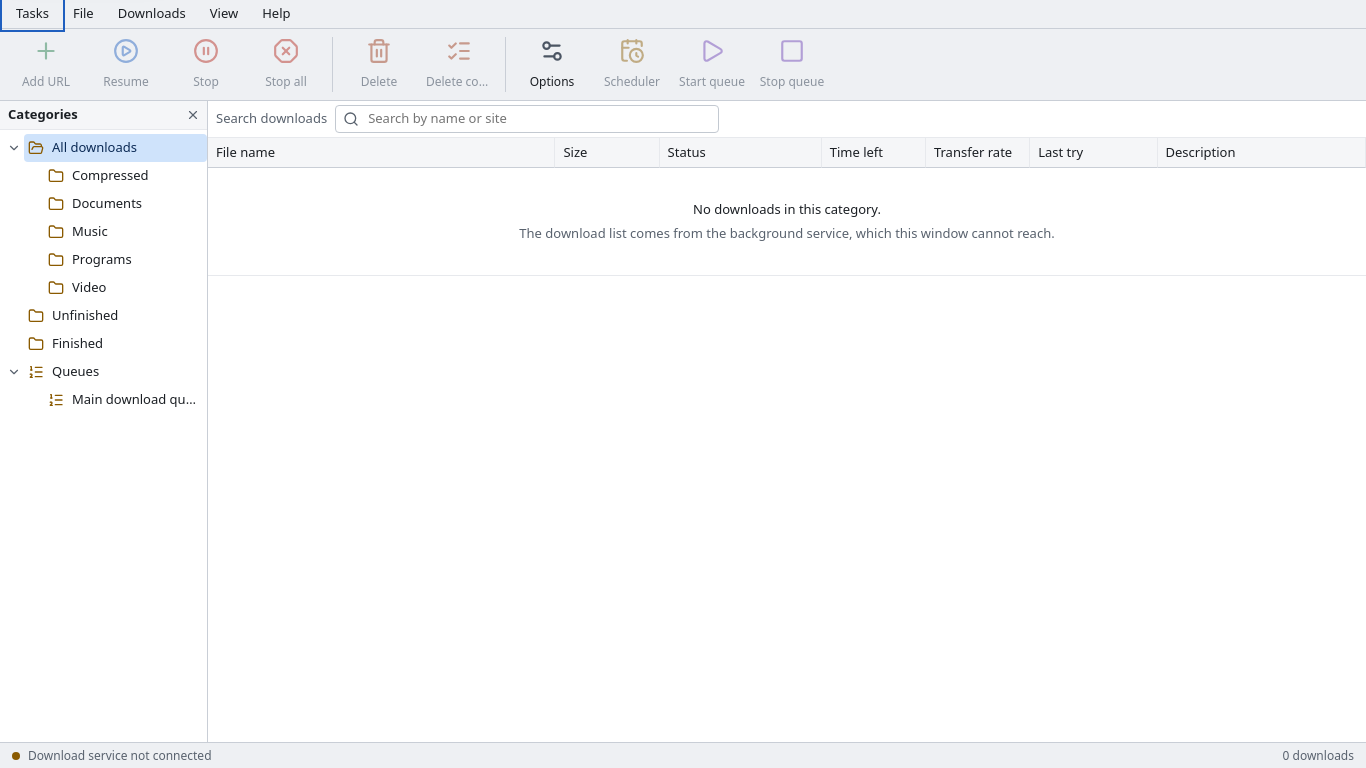
Scenario: classic download-manager window › operates the menu bar from the keyboard and changes theme
Press Arrowright Arrowright Arrowright
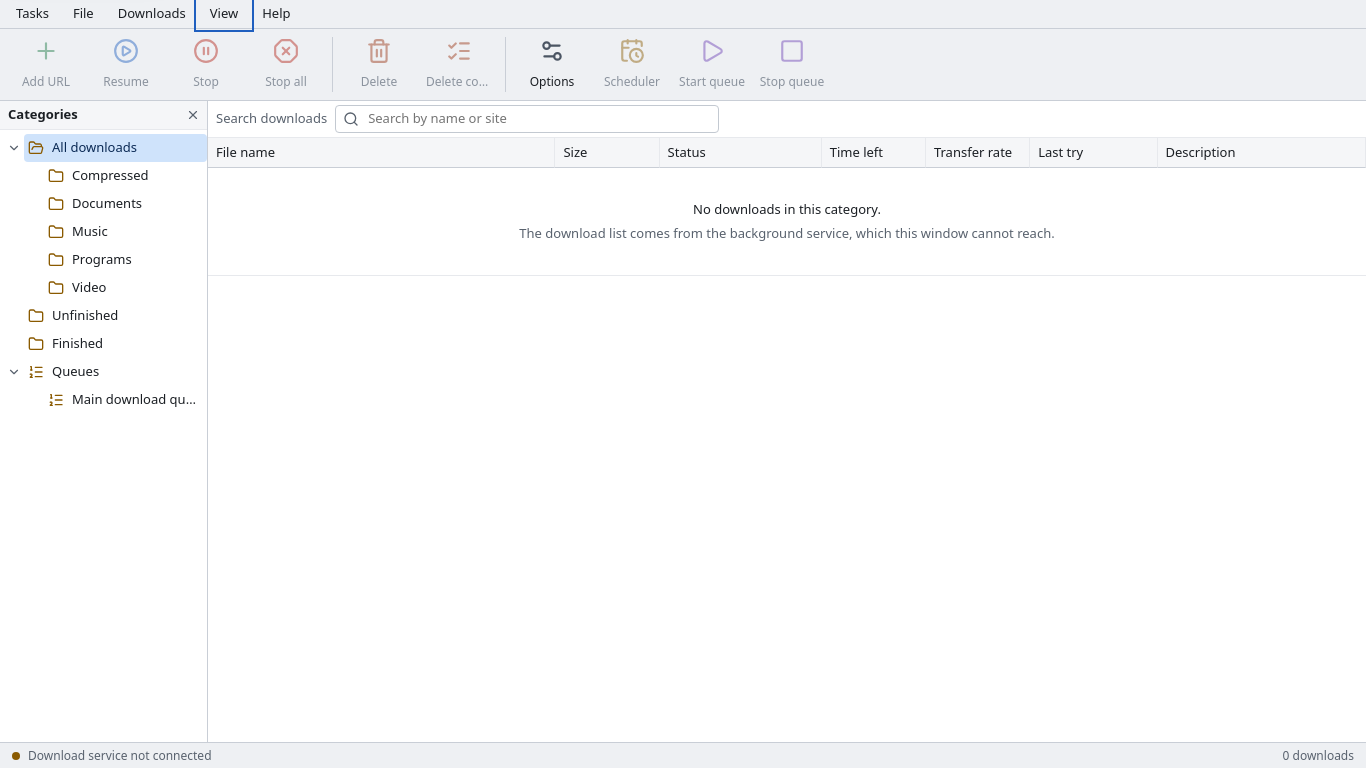
Press Arrowdown
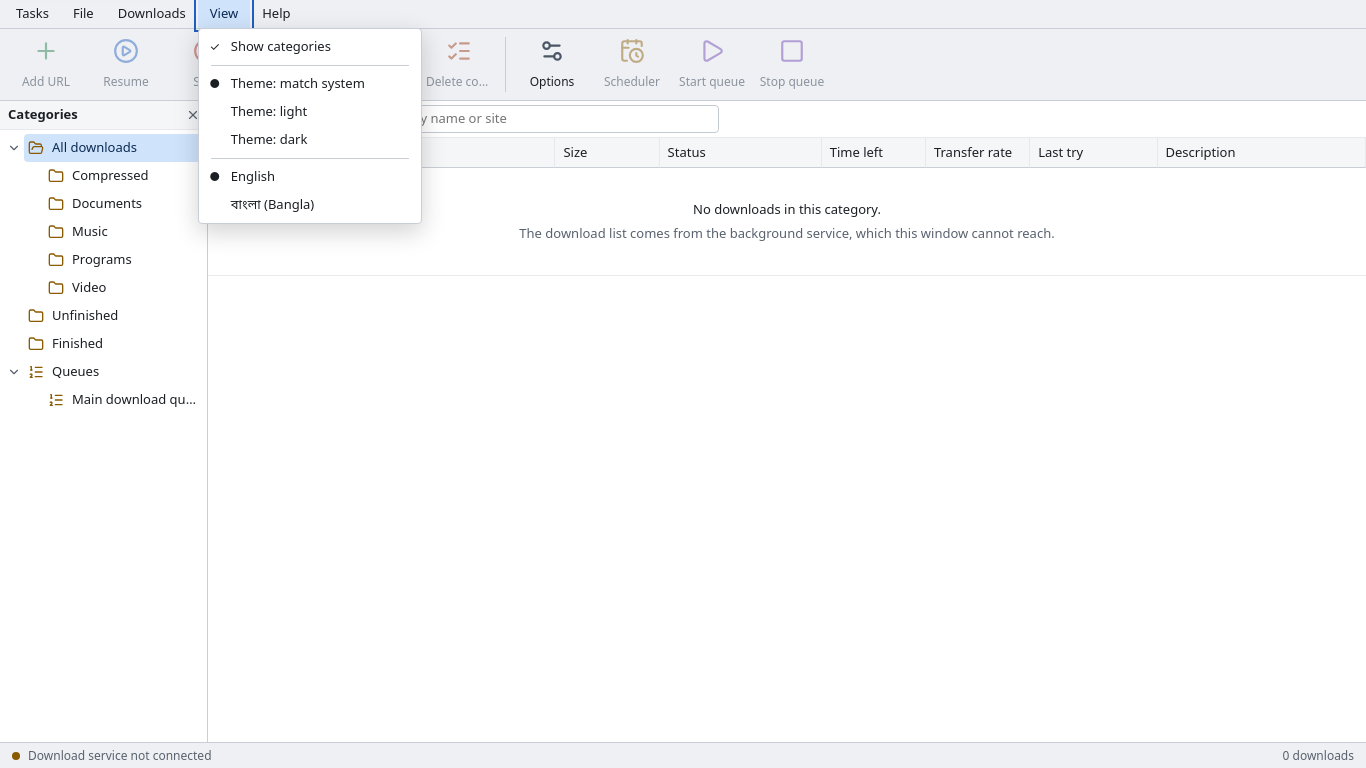
Click the menu item "Theme: dark": (310,140) x1=203 y1=126 x2=417 y2=154
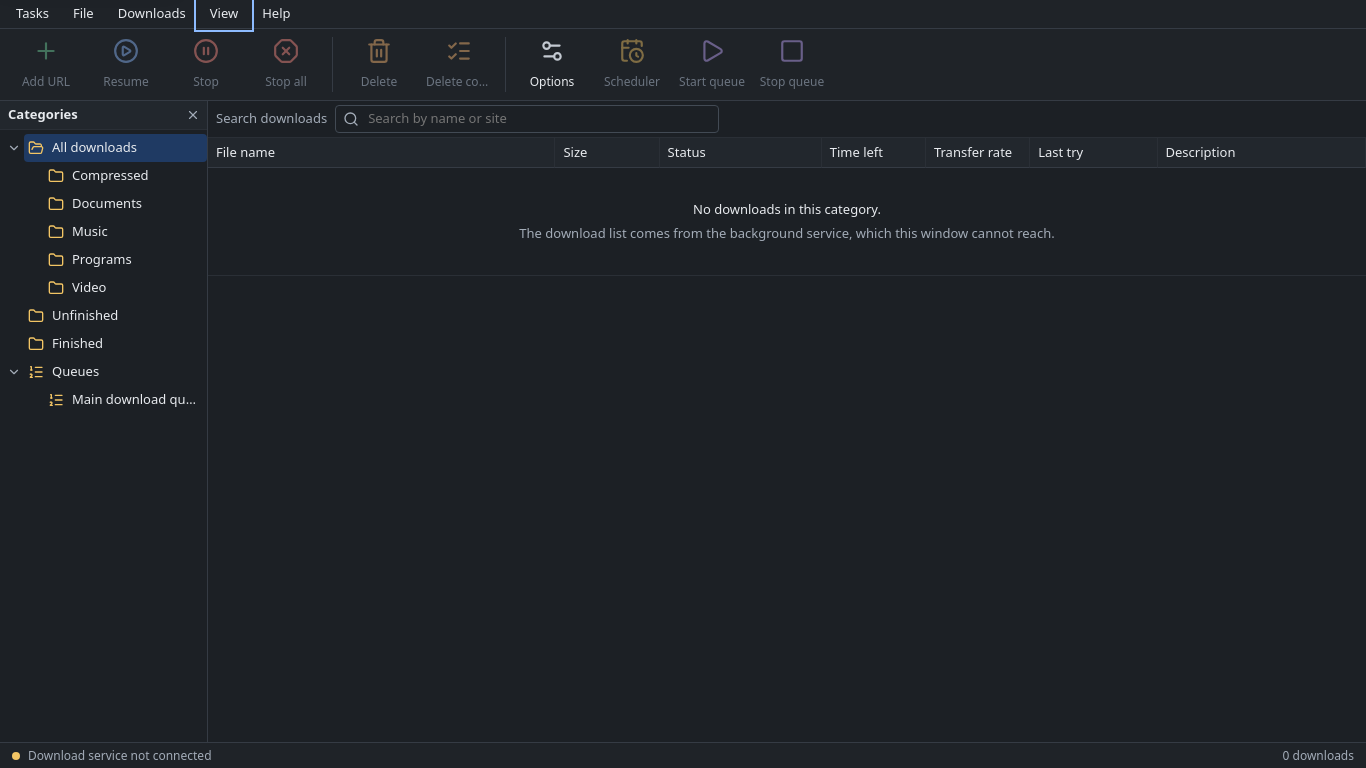
Result: the menu is gone
